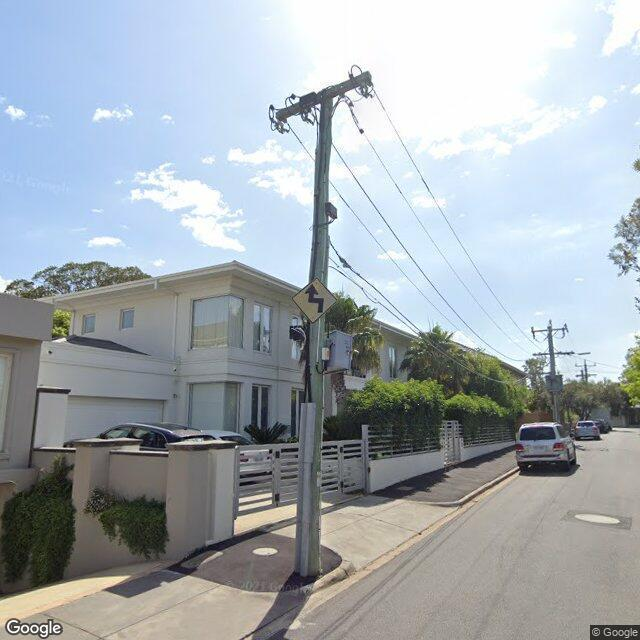HV-transmission: (530, 319, 566, 330), (574, 358, 596, 366)
crossarm: (275, 70, 372, 121), (531, 328, 567, 333), (533, 352, 575, 356), (575, 365, 597, 367), (576, 374, 598, 376)
streetlight: (575, 352, 591, 355)
timber-pole: (294, 96, 332, 578), (547, 326, 560, 422), (584, 364, 587, 383)
transformer: (545, 375, 563, 393)
